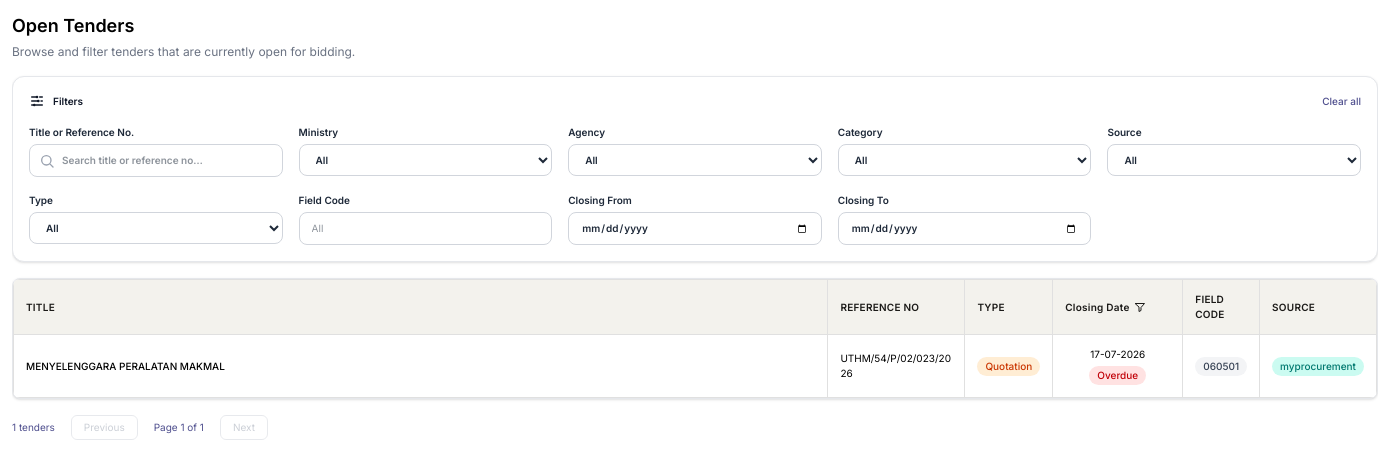
Scenario: TenderListPage › resets all filters when "Clear all" is clicked
Check: the text "MENYELENGGARA PERALATAN MAKMAL" is shown, box [14,334,828,398]
Step 1. Type "makmal" into the search field with placeholder "Search title or reference no…" → (156, 160), box [29,144,283,177]
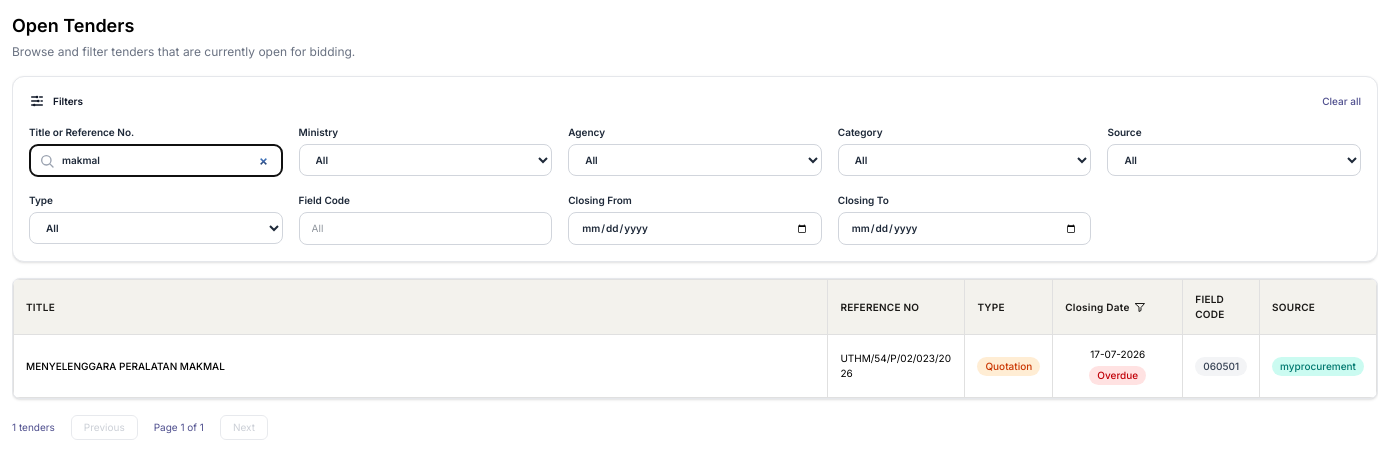
Step 2. Select "KEMENTERIAN PENDIDIKAN TINGGI" in the dropdown labelled "Ministry" → (425, 160), box [299,144,552,176]
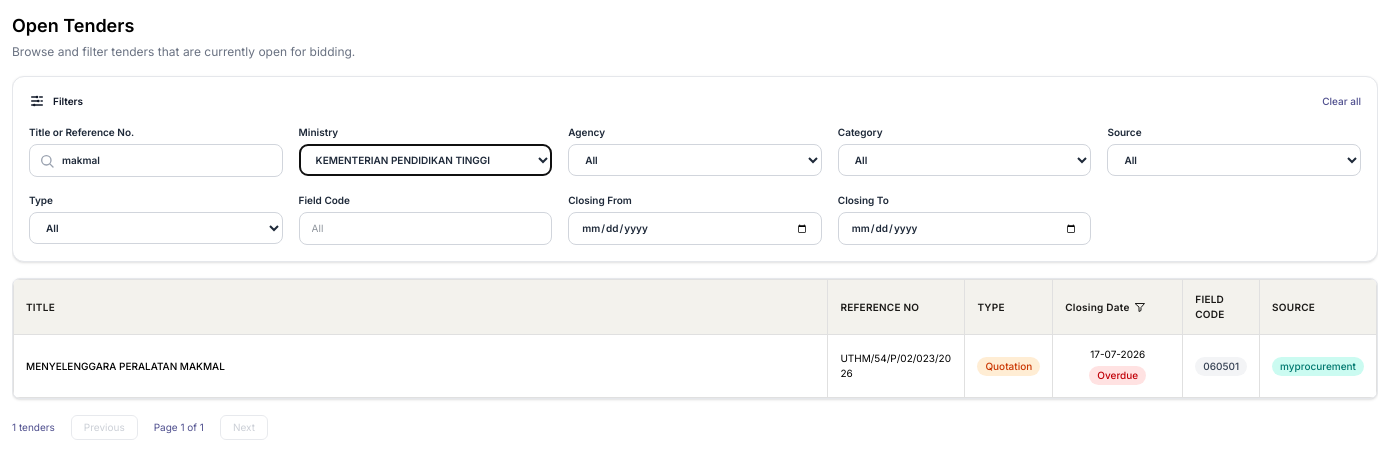
Step 3. Type "2026-07-10" into the date field labelled "Closing From" → (695, 228), box [568,212,822,245]
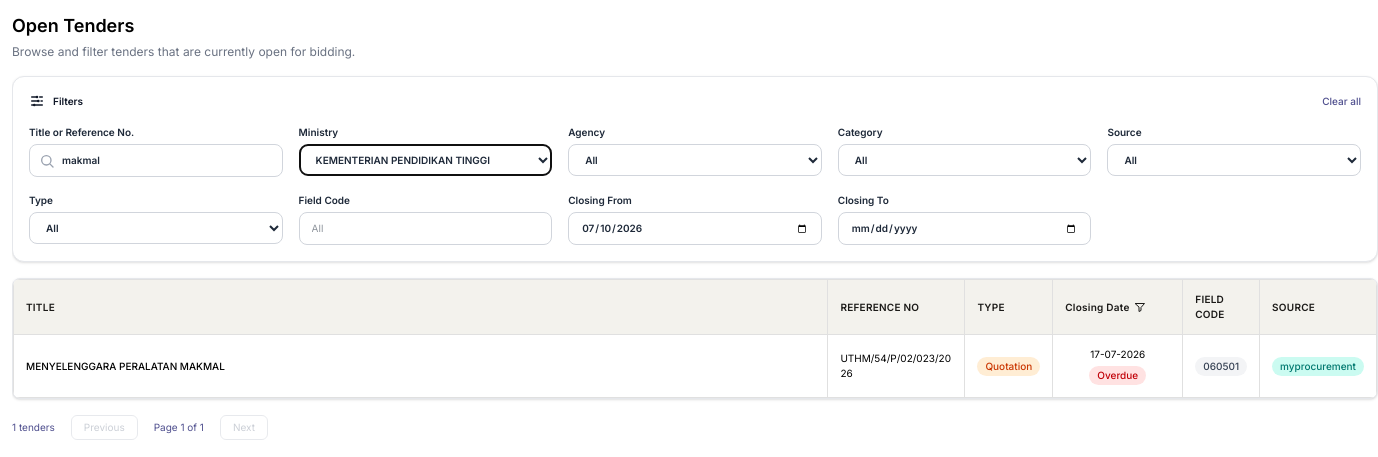
Step 4. Click the button "Clear all" → (1342, 101), box [1322,94,1361,108]
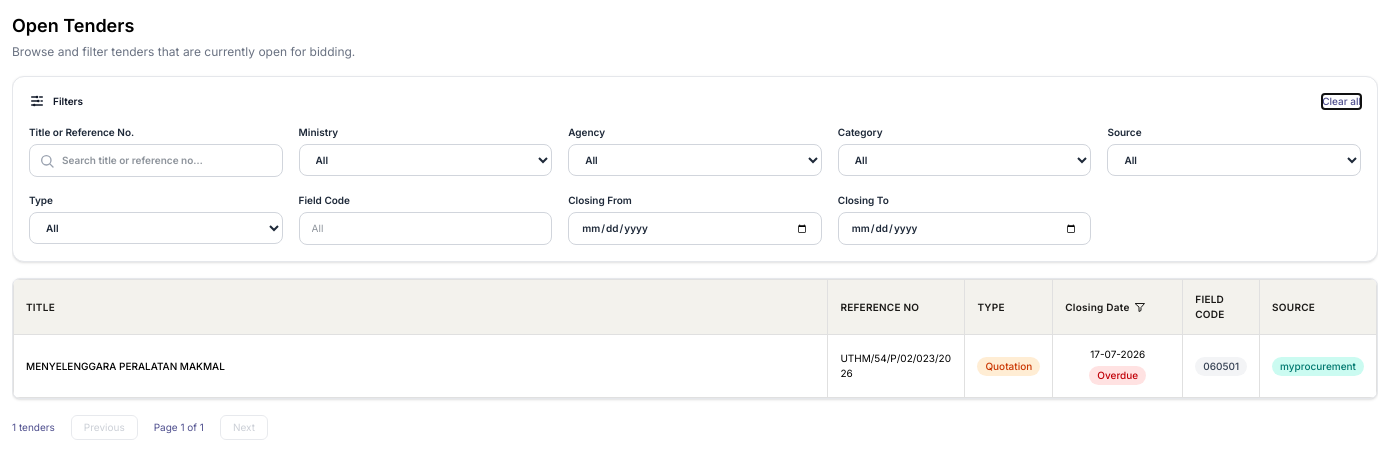
Check: the search field with placeholder "Search title or reference no…" is empty, box [29,144,283,177]
Check: the date field labelled "Closing From" is empty, box [568,212,822,245]
